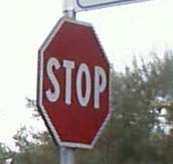stop: (35, 15, 114, 149)
